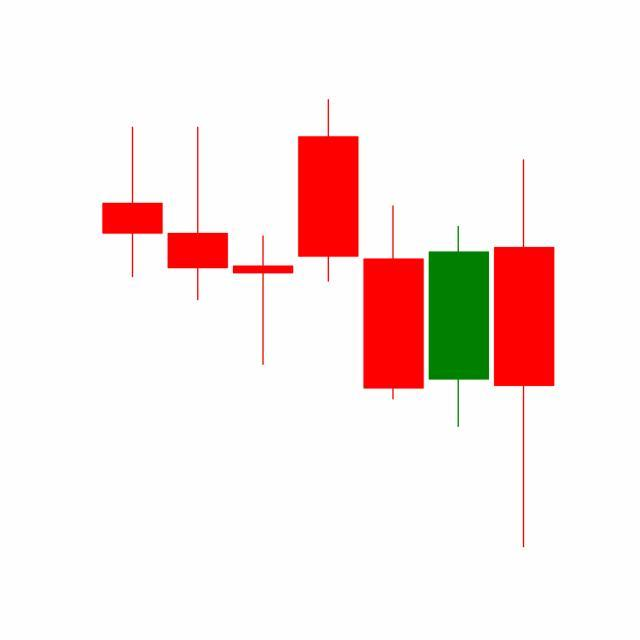Upside-Downside Gap Three Methods: (295, 99, 492, 432)
